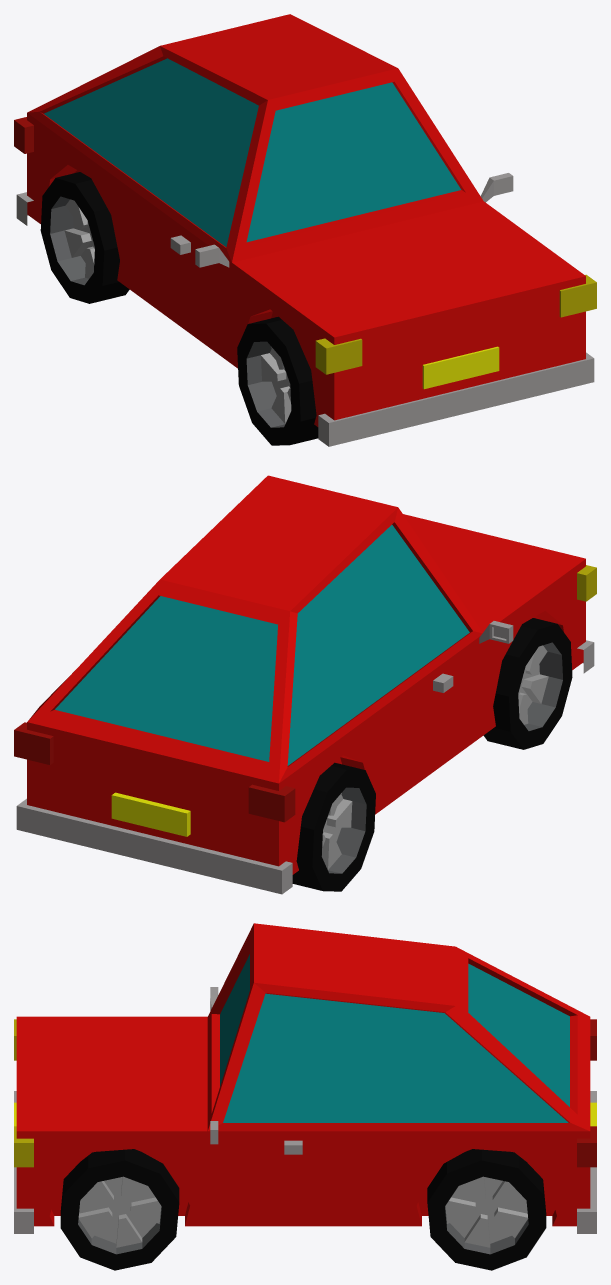
File: Car2.fbx
3 views of the same model, one above another, from view 1: azimuth 30°, elevation 25°; view 2: azimuth 150°, elevation 25°; view 3: azimuth 270°, elevation 25° (orthographic). The views are drawn at different scales.
Parts seen in each view (by area): view 1: Car2, R_Back_Wheel, R_Front_Wheel; view 2: Car2, R_Front_Wheel, R_Back_Wheel; view 3: Car2, L_Front_Wheel, L_Back_Wheel.
Boxes of the visible parts, x1,y1,x2,y2 form: Car2: (14,14,596,446); R_Back_Wheel: (40,172,129,303); R_Front_Wheel: (237,316,318,445); Car2: (14,475,596,894); R_Front_Wheel: (483,618,572,749); R_Back_Wheel: (292,762,375,891); Car2: (14,923,596,1233); L_Front_Wheel: (60,1149,179,1270); L_Back_Wheel: (427,1149,546,1270).
Size of the model in its own units: 2.56 by 2.14 by 4.42.
